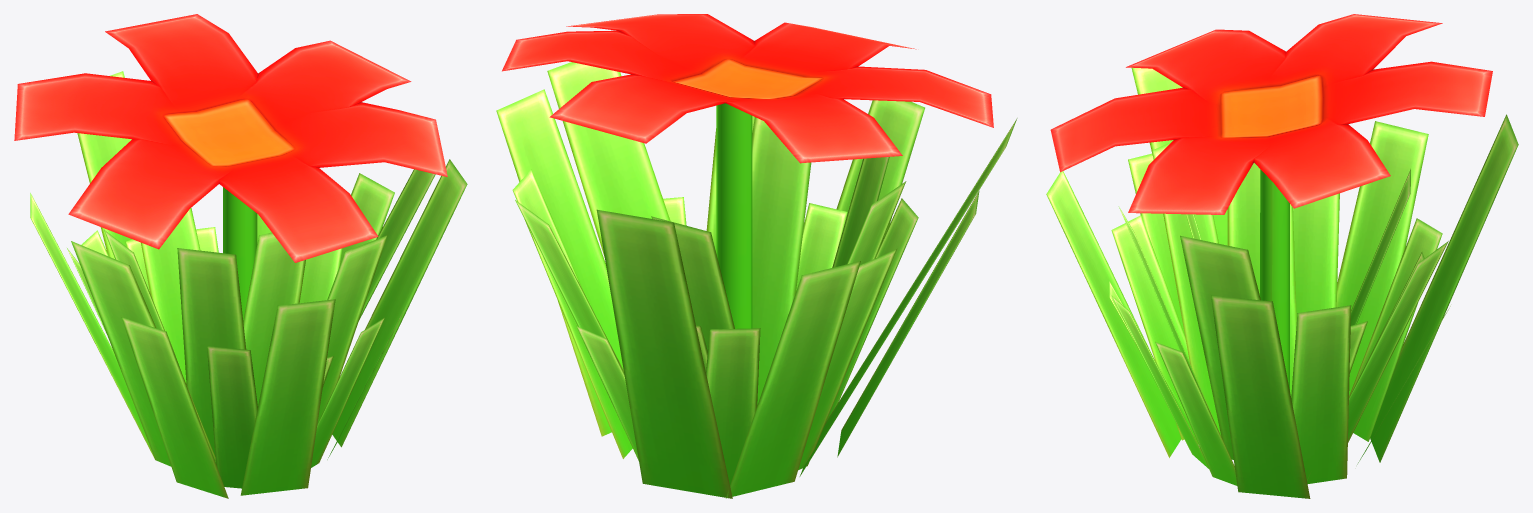
The model's file is SM_Flower_02_A.glb.
3 views of the same model, side by side, from view 1: azimuth 30°, elevation 25°; view 2: azimuth 150°, elevation 25°; view 3: azimuth 270°, elevation 25° (orthographic). The views are drawn at different scales.
Visible parts, largest first — view 1: SM_Flower_02_A; view 2: SM_Flower_02_A; view 3: SM_Flower_02_A.
Boxes of the visible parts, x1=… form: SM_Flower_02_A: x1=14, y1=14, x2=467, y2=498; SM_Flower_02_A: x1=496, y1=14, x2=1017, y2=498; SM_Flower_02_A: x1=1046, y1=14, x2=1518, y2=498.
Size of the model in its own units: 0.2497 by 0.2099 by 0.24.
1 material, 1 textured.
